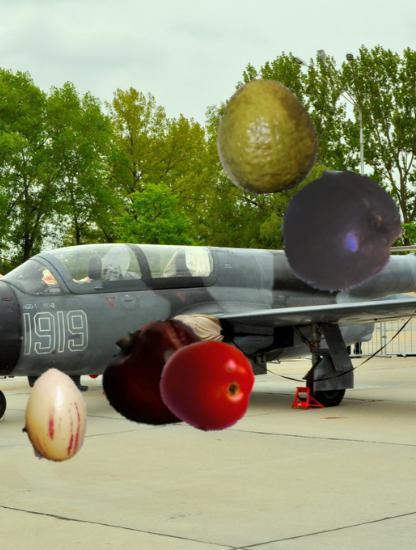Cherry: (102, 318, 218, 434)
Guava: (209, 77, 326, 194)
Passion: (281, 171, 405, 295)
Pepino: (6, 368, 102, 464)
Tomato: (159, 337, 254, 432)
